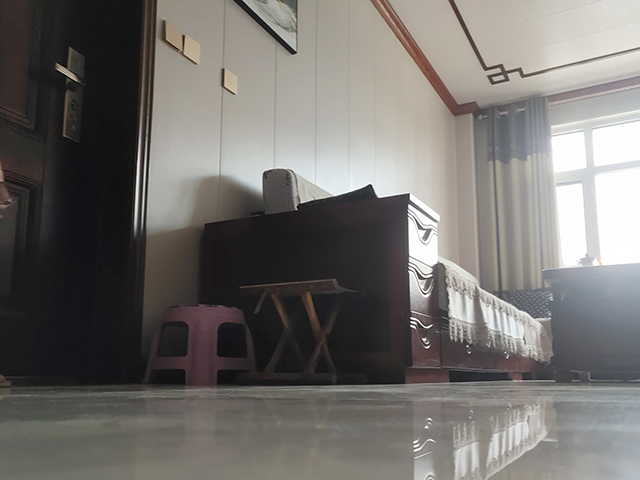curtain: (484, 91, 557, 289)
sofa: (198, 166, 556, 385)
stool: (233, 276, 372, 387), (139, 302, 259, 387)
table: (540, 262, 640, 386)
